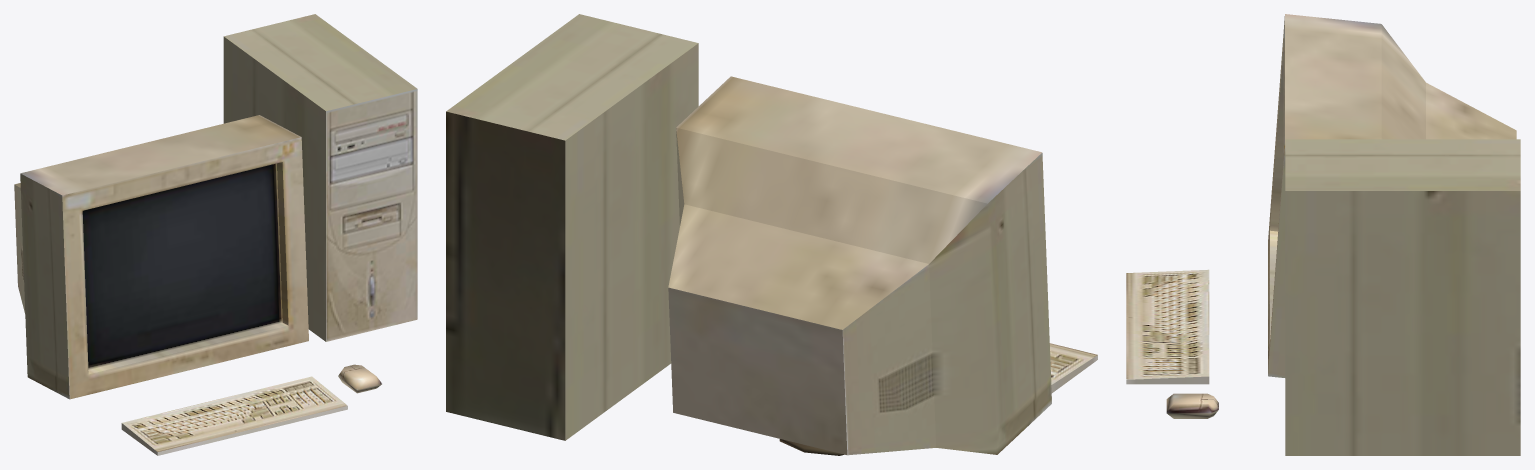
Rendered from computer.FBX.
The picture shows the model from 3 angles, left to right: view 1: azimuth 30°, elevation 25°; view 2: azimuth 150°, elevation 25°; view 3: azimuth 270°, elevation 25°; orthographic projection. The views are drawn at different scales.
Visible parts, largest first — view 1: computer; view 2: computer; view 3: computer.
Part boxes in pixels (box(x1,y1,x2,y2)): computer: box(14, 14, 417, 455); computer: box(446, 14, 1097, 455); computer: box(1126, 14, 1520, 455).
Bounding box in the file's own units: 34.37 × 22.37 × 28.72.
